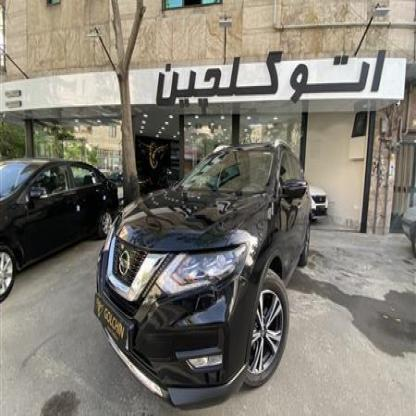Car: (88, 104, 313, 401), (0, 155, 117, 292), (295, 184, 336, 232)
